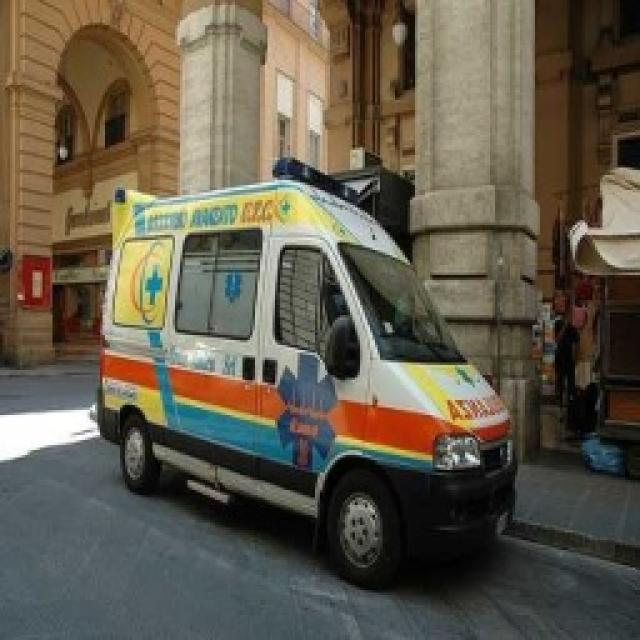emergency-vehicle: (87, 183, 517, 599)
